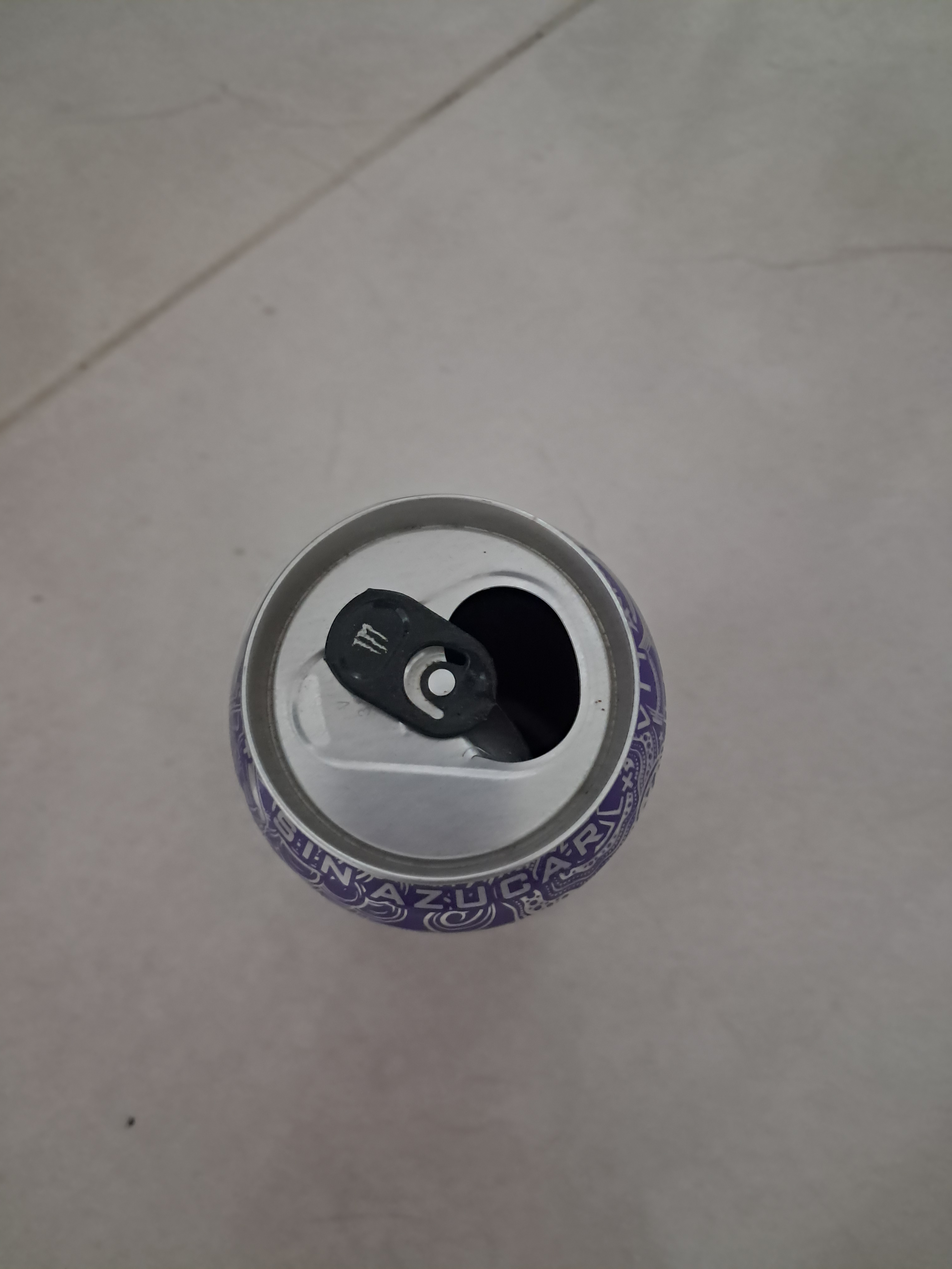energy_drink: (230, 496, 665, 933)
